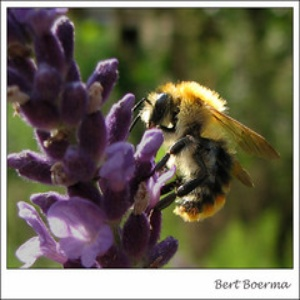bee: (130, 80, 280, 228)
